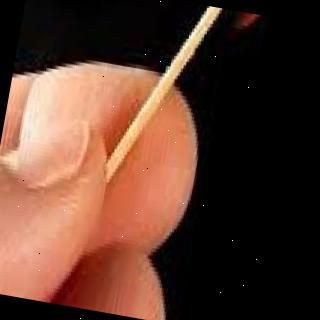fire: (210, 7, 312, 36)
